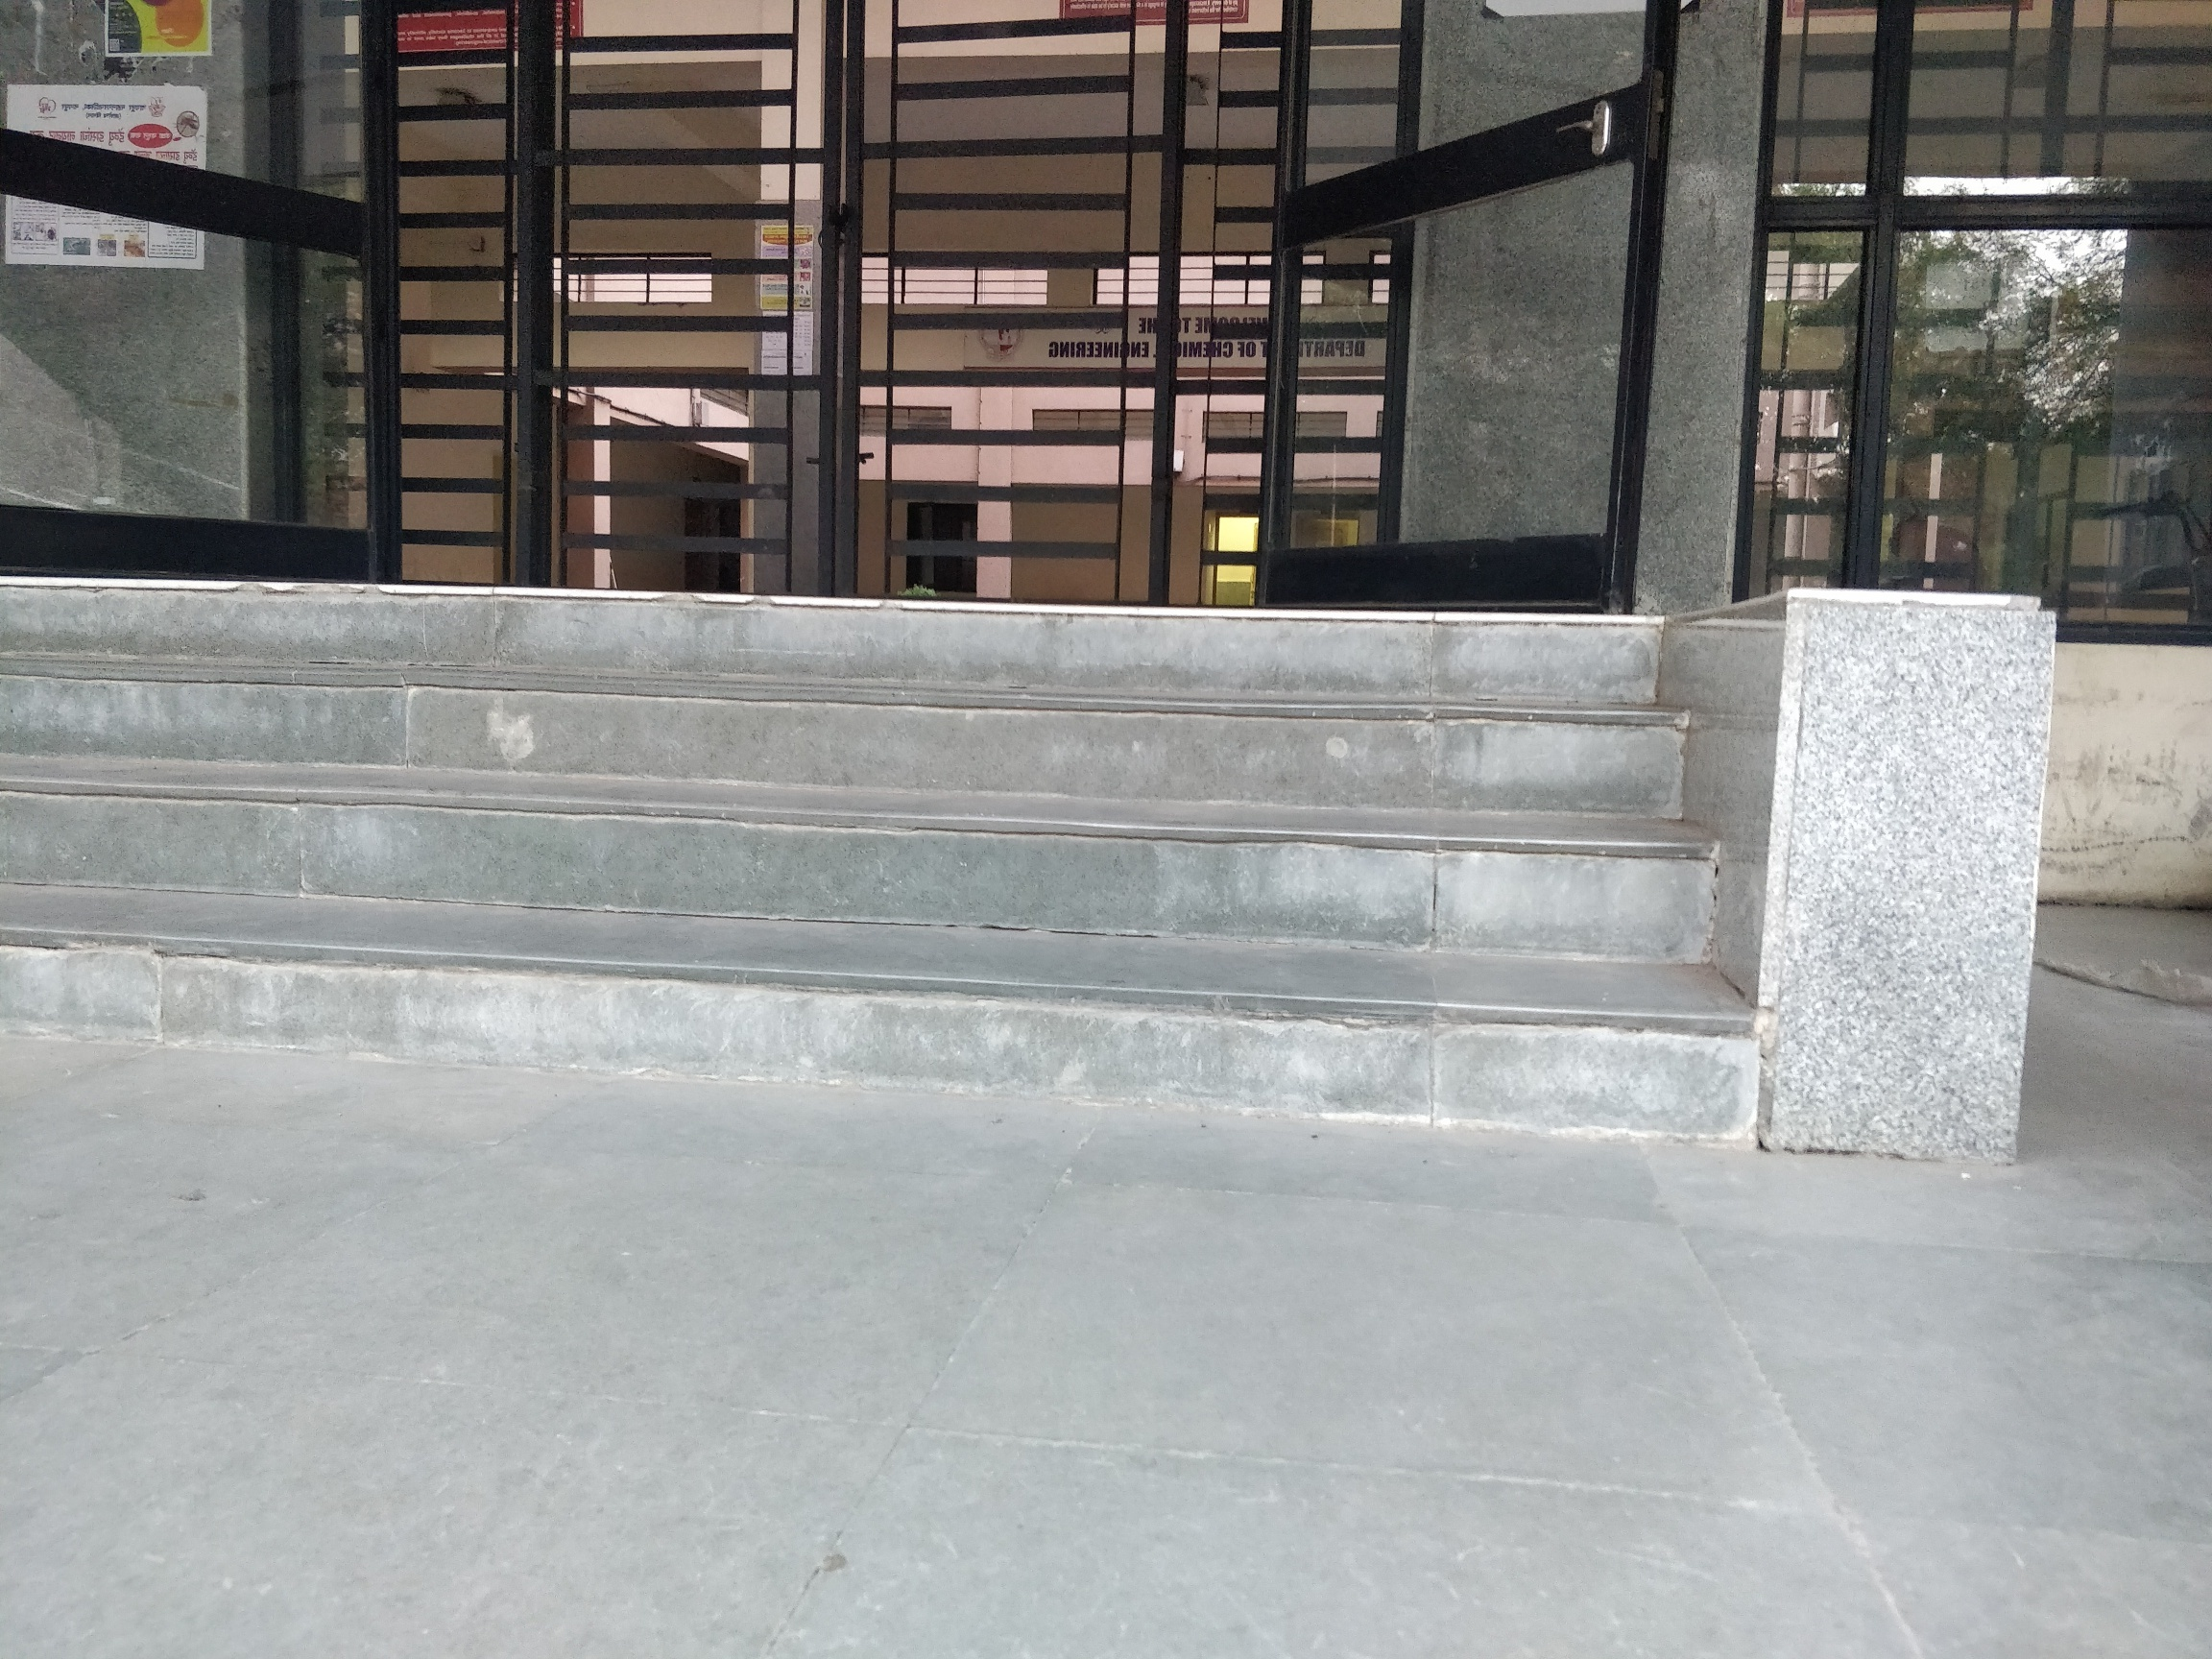stairs_up: (7, 587, 1686, 1066)
